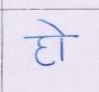o_matra: (55, 23, 67, 61)
